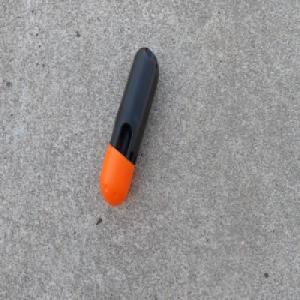PlasticPart: (98, 46, 159, 207)
